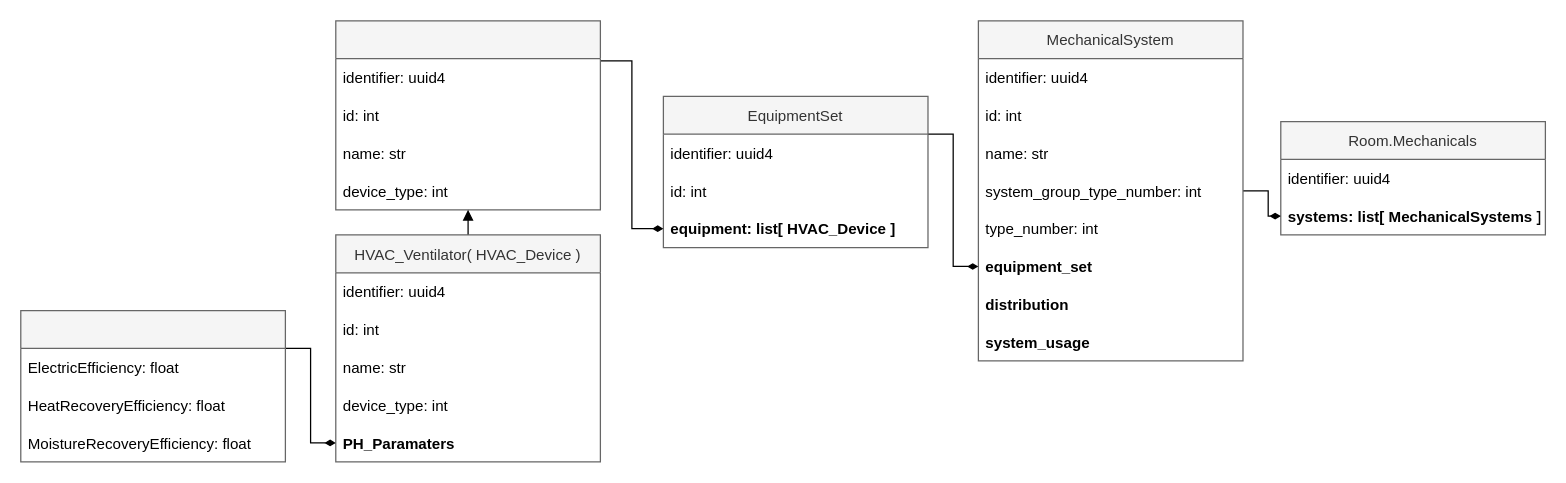
The diagram is 1566 pixels wide and 483 high, and some of its shapes have lost their labels. The box of each missing label's shape, as (x1, y1, x2, y2) in pixels:
HVAC_Device: (335, 20, 600, 210)
HVAC_Ventilator_PH_Parameters: (20, 309, 285, 462)
